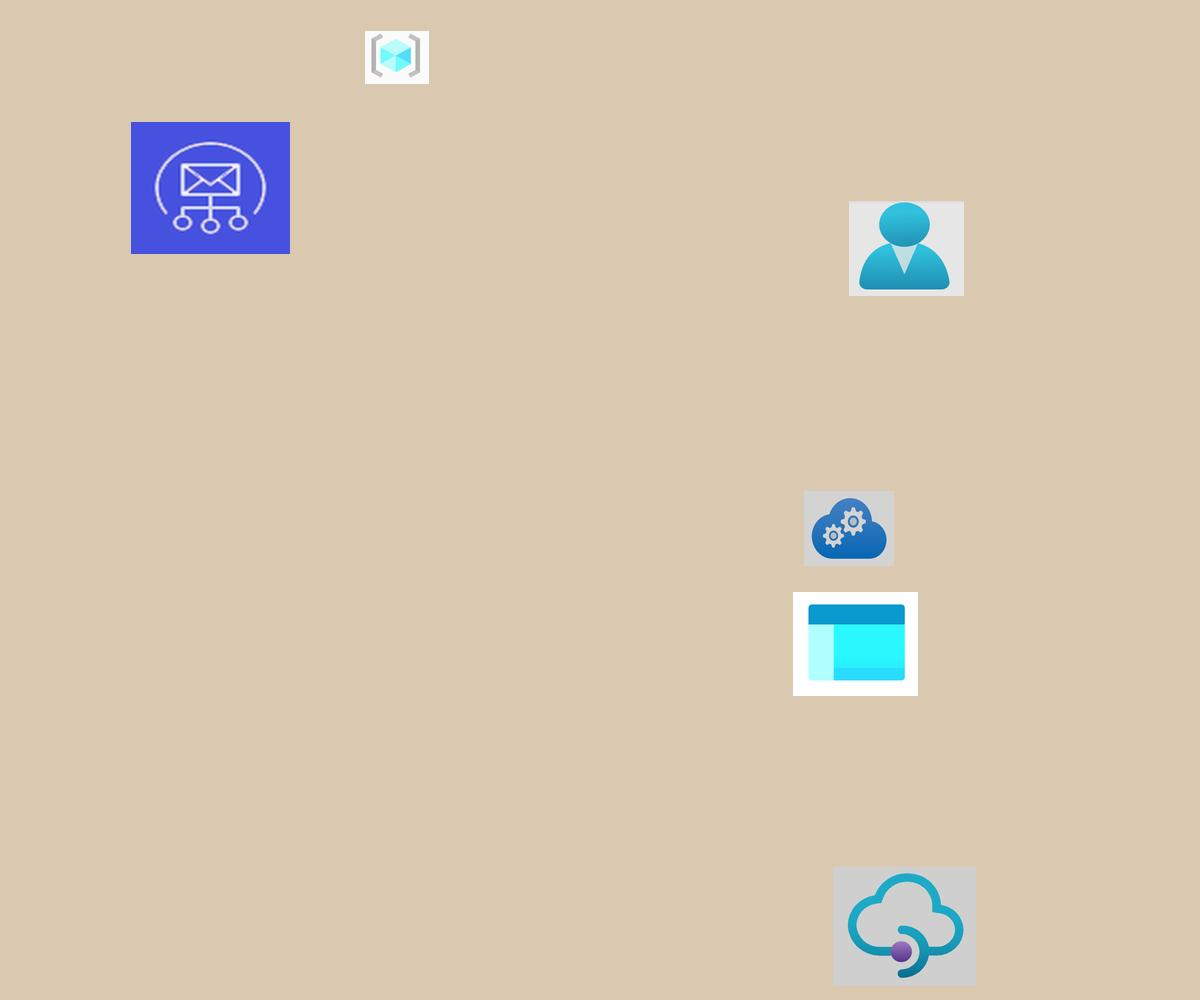AWS-Simple-Email-Service: (131, 122, 290, 254)
Azure_api_gateway: (833, 867, 976, 986)
Azure_cloud_services: (804, 491, 894, 566)
Azure_management-portal: (793, 592, 918, 696)
Azure_resource_group: (365, 31, 429, 84)
Azure_users: (849, 201, 964, 296)
